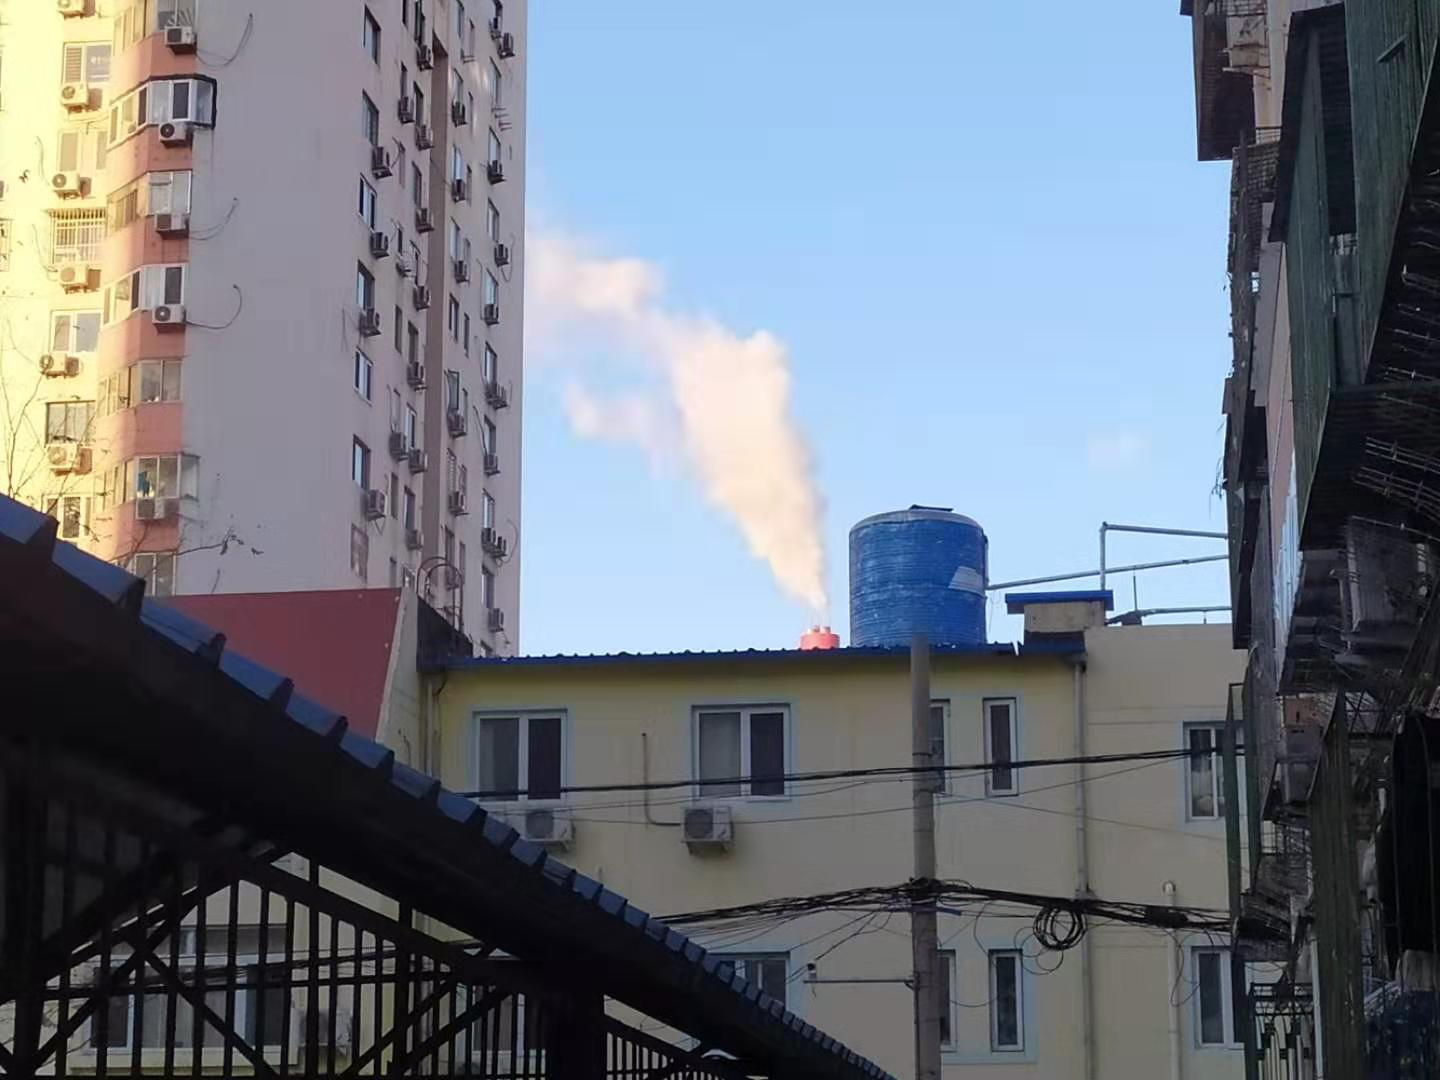smoke: (571, 263, 842, 621)
